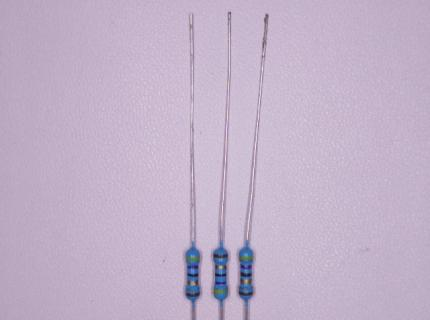Black band: (241, 272, 252, 277), (187, 274, 199, 278), (215, 273, 227, 277)
Brown band: (238, 291, 254, 296), (212, 254, 227, 259), (186, 292, 201, 297)
Gold band: (240, 278, 252, 284), (187, 279, 198, 285), (215, 265, 227, 269)
Violet band: (240, 264, 252, 269), (214, 281, 227, 285), (187, 266, 199, 270)
Yellow band: (185, 256, 200, 262), (238, 256, 254, 261), (214, 290, 228, 295)
